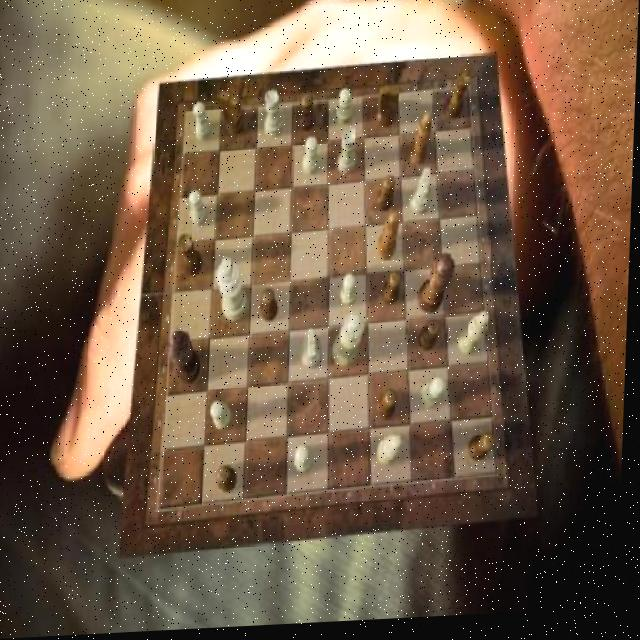bishop: (410, 116, 435, 171), (378, 217, 402, 266)
black-bishop: (170, 331, 205, 389)
black-king: (220, 93, 246, 140), (377, 88, 401, 132)
black-knight: (472, 439, 500, 468), (421, 323, 445, 356), (383, 275, 403, 310), (299, 96, 317, 134), (380, 394, 401, 426), (378, 179, 397, 214), (264, 291, 282, 326), (221, 468, 242, 495)
black-pawn: (420, 258, 457, 319)
black-queen: (447, 74, 473, 123), (180, 234, 207, 278)
black-rook: (461, 316, 493, 360), (380, 438, 407, 472)
white-bishop: (218, 260, 253, 325)
white-king: (412, 173, 434, 220), (304, 332, 326, 373)
white-knight: (423, 381, 448, 415), (194, 104, 215, 144), (190, 191, 210, 230), (303, 139, 322, 177), (213, 404, 237, 432), (343, 277, 361, 312), (337, 91, 354, 128), (298, 450, 318, 478)
white-pawn: (335, 314, 369, 371)
white-queen: (265, 93, 286, 141), (339, 131, 358, 178)
